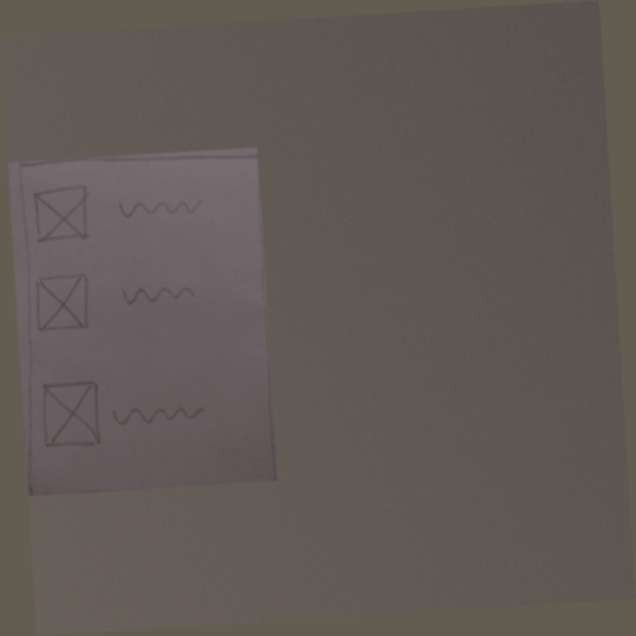image: (37, 377, 105, 450), (30, 271, 94, 335), (29, 183, 93, 246)
text: (111, 397, 209, 432), (113, 192, 209, 225), (113, 276, 209, 309)
